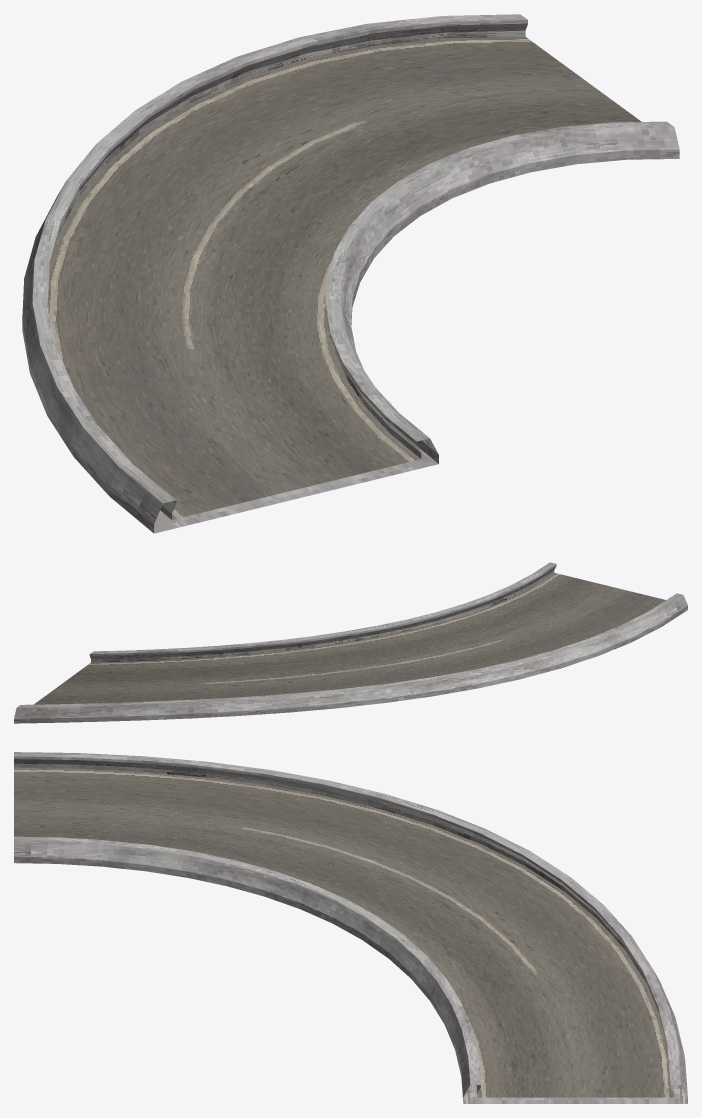
The model's file is road-Turn-Flat-BiSlopeDown-Down1-Right-Size3.glb.
3 renders of one model, top to bottom at view 1: azimuth 30°, elevation 25°; view 2: azimuth 150°, elevation 25°; view 3: azimuth 270°, elevation 25°, orthographic. The views are drawn at different scales.
Parts seen in each view (by area): view 1: road-Turn-Flat-BiSlopeDown-Down1-Right-Size3; view 2: road-Turn-Flat-BiSlopeDown-Down1-Right-Size3; view 3: road-Turn-Flat-BiSlopeDown-Down1-Right-Size3.
Part boxes in pixels (x1,y1,x2,y2): road-Turn-Flat-BiSlopeDown-Down1-Right-Size3: (22, 14, 679, 533); road-Turn-Flat-BiSlopeDown-Down1-Right-Size3: (14, 562, 687, 723); road-Turn-Flat-BiSlopeDown-Down1-Right-Size3: (14, 752, 687, 1103).
Bounding box in the file's own units: 3 × 0.3744 × 3.
Materials: 2 (2 with a texture image).
